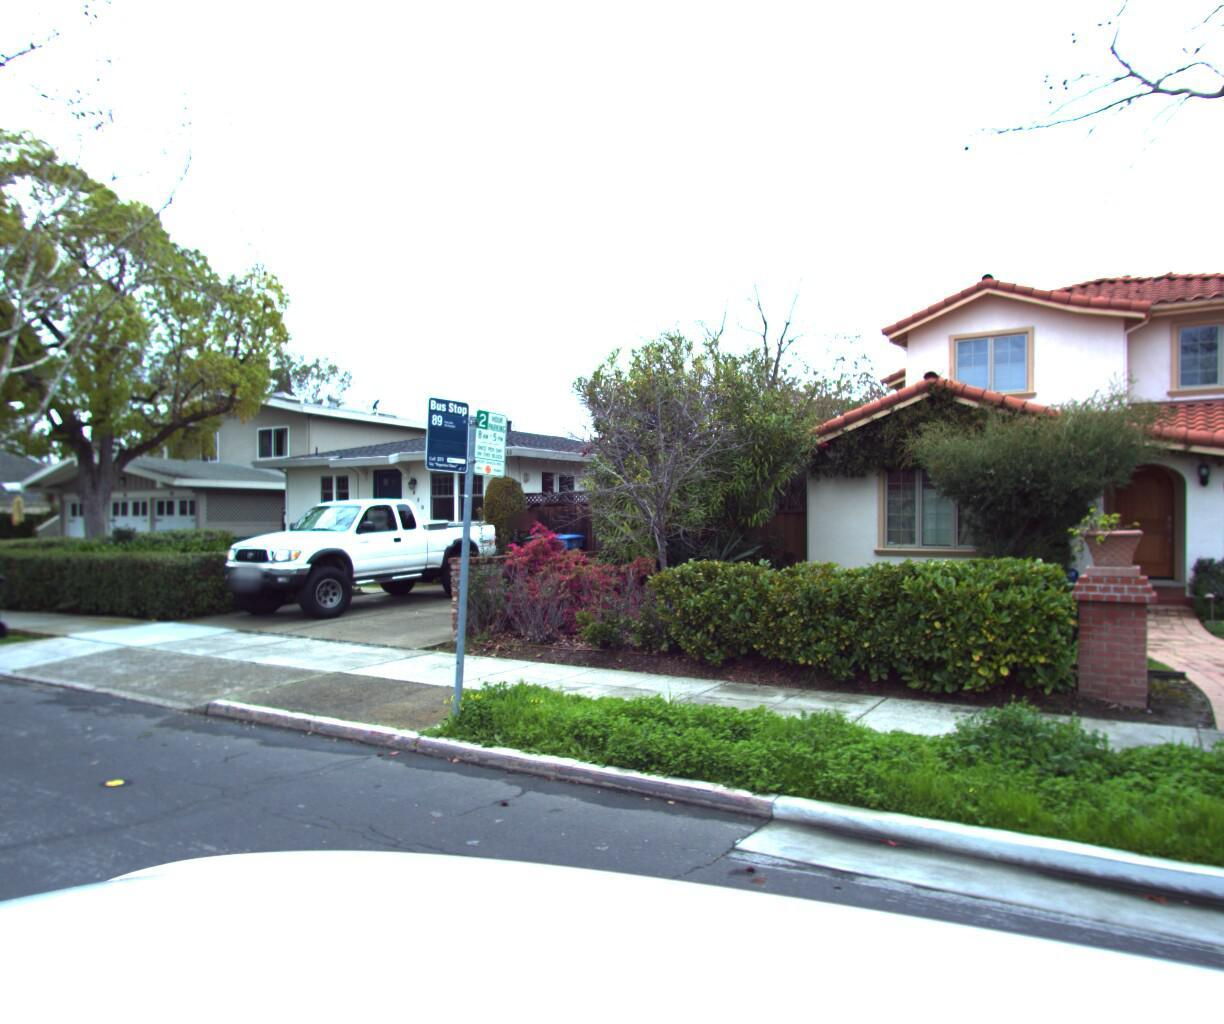car: (198, 497, 513, 633)
